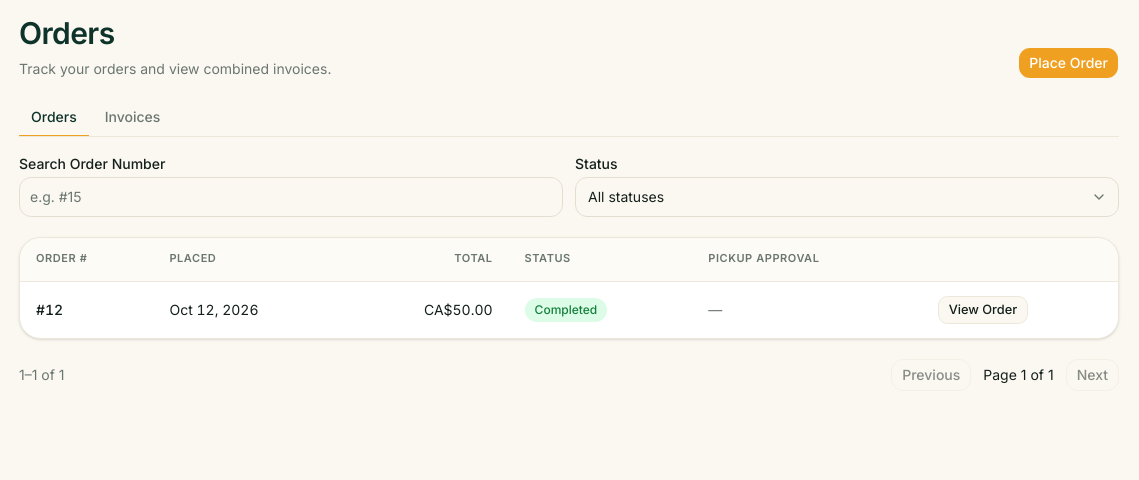
Scenario: filters orders by number and status on the server
This screenshot has width=1139, height=480.
Select "Ready" in the dropdown labelled "Status" at x=847, y=196, box x1=575 y1=176 x2=1119 y2=216
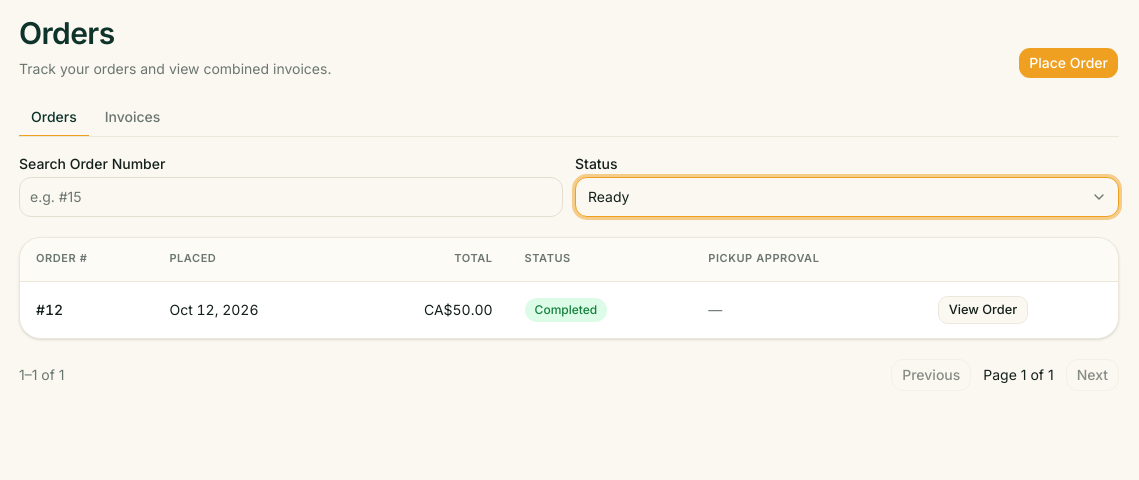
Type "#15" into the search field labelled "Search Order Number" at x=291, y=196, box x1=19 y1=176 x2=563 y2=216
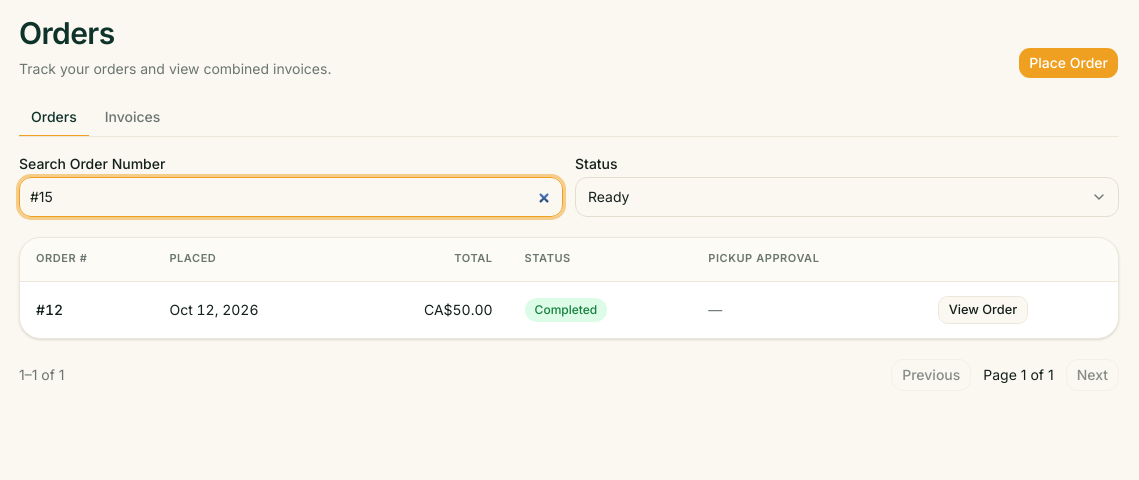
Replace the text in the search field labelled "Search Order Number" with "invalid" at x=291, y=196, box x1=19 y1=176 x2=563 y2=216
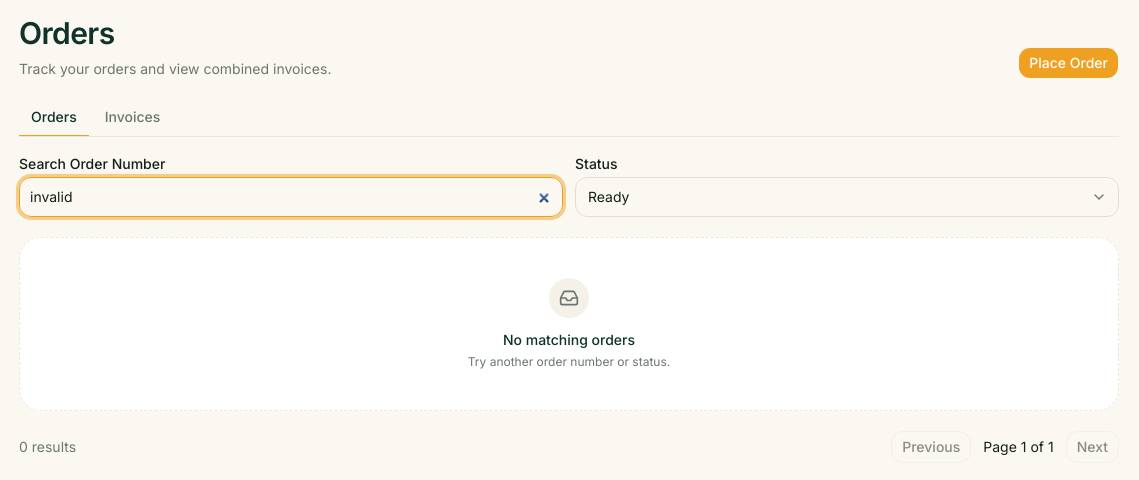
Check: the text "No matching orders" is shown, box x1=503 y1=330 x2=635 y2=348
